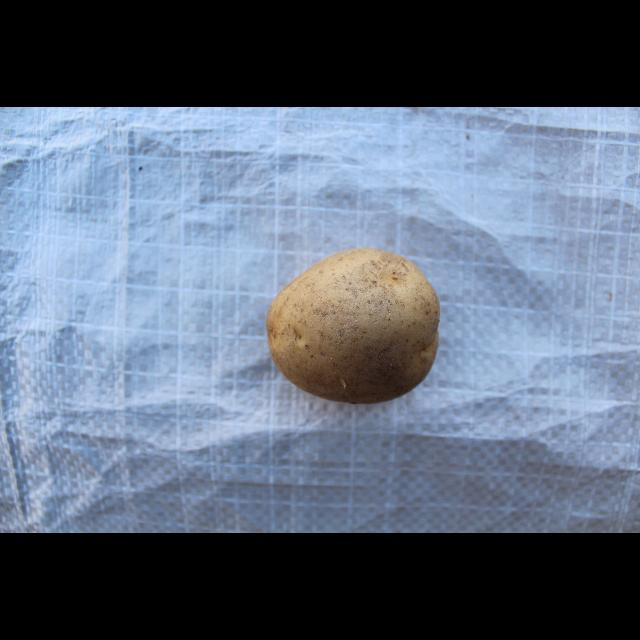Diseased-fungal potato: (266, 244, 442, 404)
